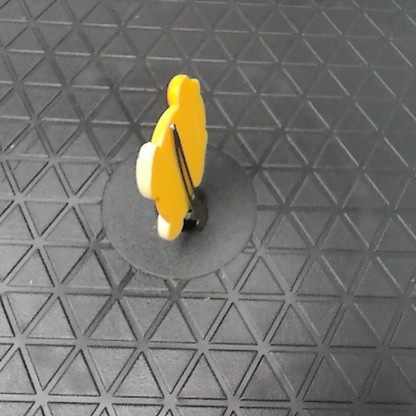dogclip: (132, 73, 210, 241)
